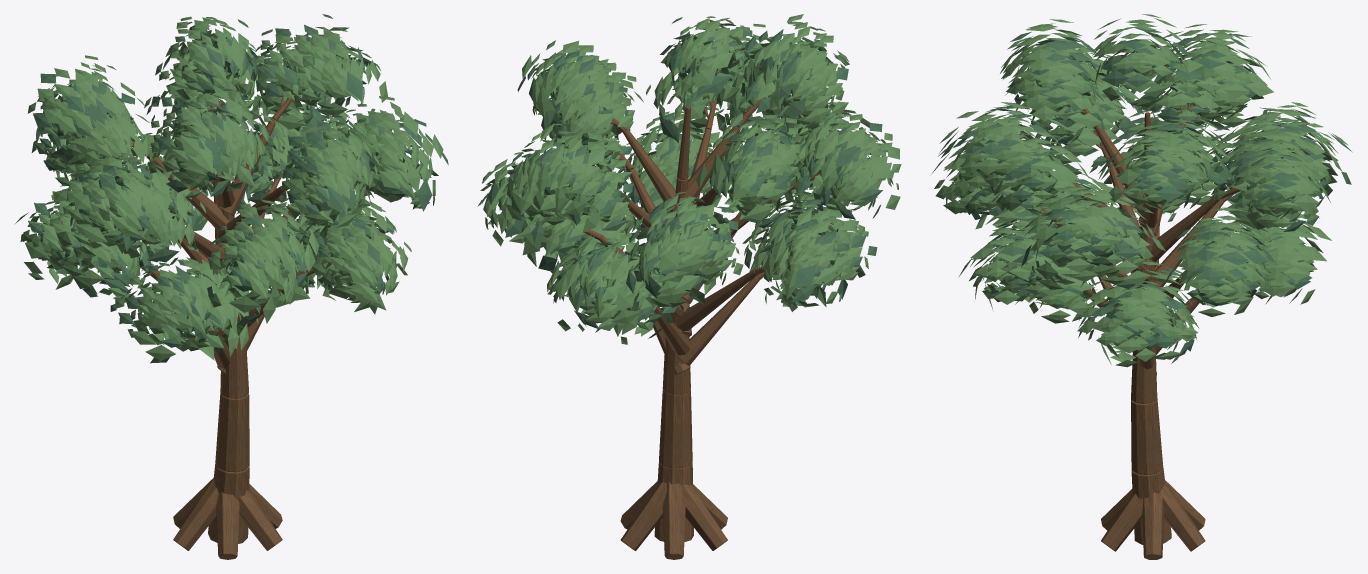
File: linden.glb
3 renders of one model, left to right at view 1: azimuth 30°, elevation 25°; view 2: azimuth 150°, elevation 25°; view 3: azimuth 270°, elevation 25°, orthographic. The views are drawn at different scales.
Parts seen in each view (by area): view 1: Airy supported leaf sprays.001, Airy supported leaf sprays, Tapered curved trunk, Grounded buttress roots, Primary angled limbs, Asymmetric crown tuft.001, Asymmetric crown tuft; view 2: Airy supported leaf sprays.001, Airy supported leaf sprays, Primary angled limbs, Tapered curved trunk, Grounded buttress roots, Asymmetric crown tuft.001, Asymmetric crown tuft, Rising outer limbs; view 3: Airy supported leaf sprays.001, Airy supported leaf sprays, Tapered curved trunk, Grounded buttress roots, Primary angled limbs, Asymmetric crown tuft.001, Asymmetric crown tuft.
Boxes of the visible parts, x1=… form: Airy supported leaf sprays.001: x1=23, y1=17, x2=443, y2=360; Airy supported leaf sprays: x1=14, y1=14, x2=448, y2=363; Tapered curved trunk: x1=208, y1=101, x2=249, y2=543; Grounded buttress roots: x1=173, y1=478, x2=282, y2=559; Primary angled limbs: x1=139, y1=118, x2=298, y2=373; Asymmetric crown tuft.001: x1=165, y1=16, x2=253, y2=106; Asymmetric crown tuft: x1=162, y1=19, x2=258, y2=94; Airy supported leaf sprays.001: x1=477, y1=14, x2=901, y2=344; Airy supported leaf sprays: x1=482, y1=23, x2=887, y2=338; Primary angled limbs: x1=599, y1=114, x2=771, y2=374; Tapered curved trunk: x1=654, y1=106, x2=693, y2=541; Grounded buttress roots: x1=620, y1=481, x2=727, y2=559; Asymmetric crown tuft.001: x1=660, y1=16, x2=750, y2=102; Asymmetric crown tuft: x1=660, y1=17, x2=750, y2=93; Rising outer limbs: x1=585, y1=97, x2=818, y2=280; Airy supported leaf sprays.001: x1=932, y1=19, x2=1348, y2=367; Airy supported leaf sprays: x1=939, y1=32, x2=1352, y2=356; Tapered curved trunk: x1=1131, y1=112, x2=1171, y2=544; Grounded buttress roots: x1=1101, y1=480, x2=1205, y2=559; Primary angled limbs: x1=1054, y1=125, x2=1224, y2=374; Asymmetric crown tuft.001: x1=1091, y1=14, x2=1189, y2=107; Asymmetric crown tuft: x1=1096, y1=27, x2=1189, y2=100.
Bounding box in the file's own units: 3.3 × 4.61 × 3.49.
Materials: 4 (2 with a texture image).
